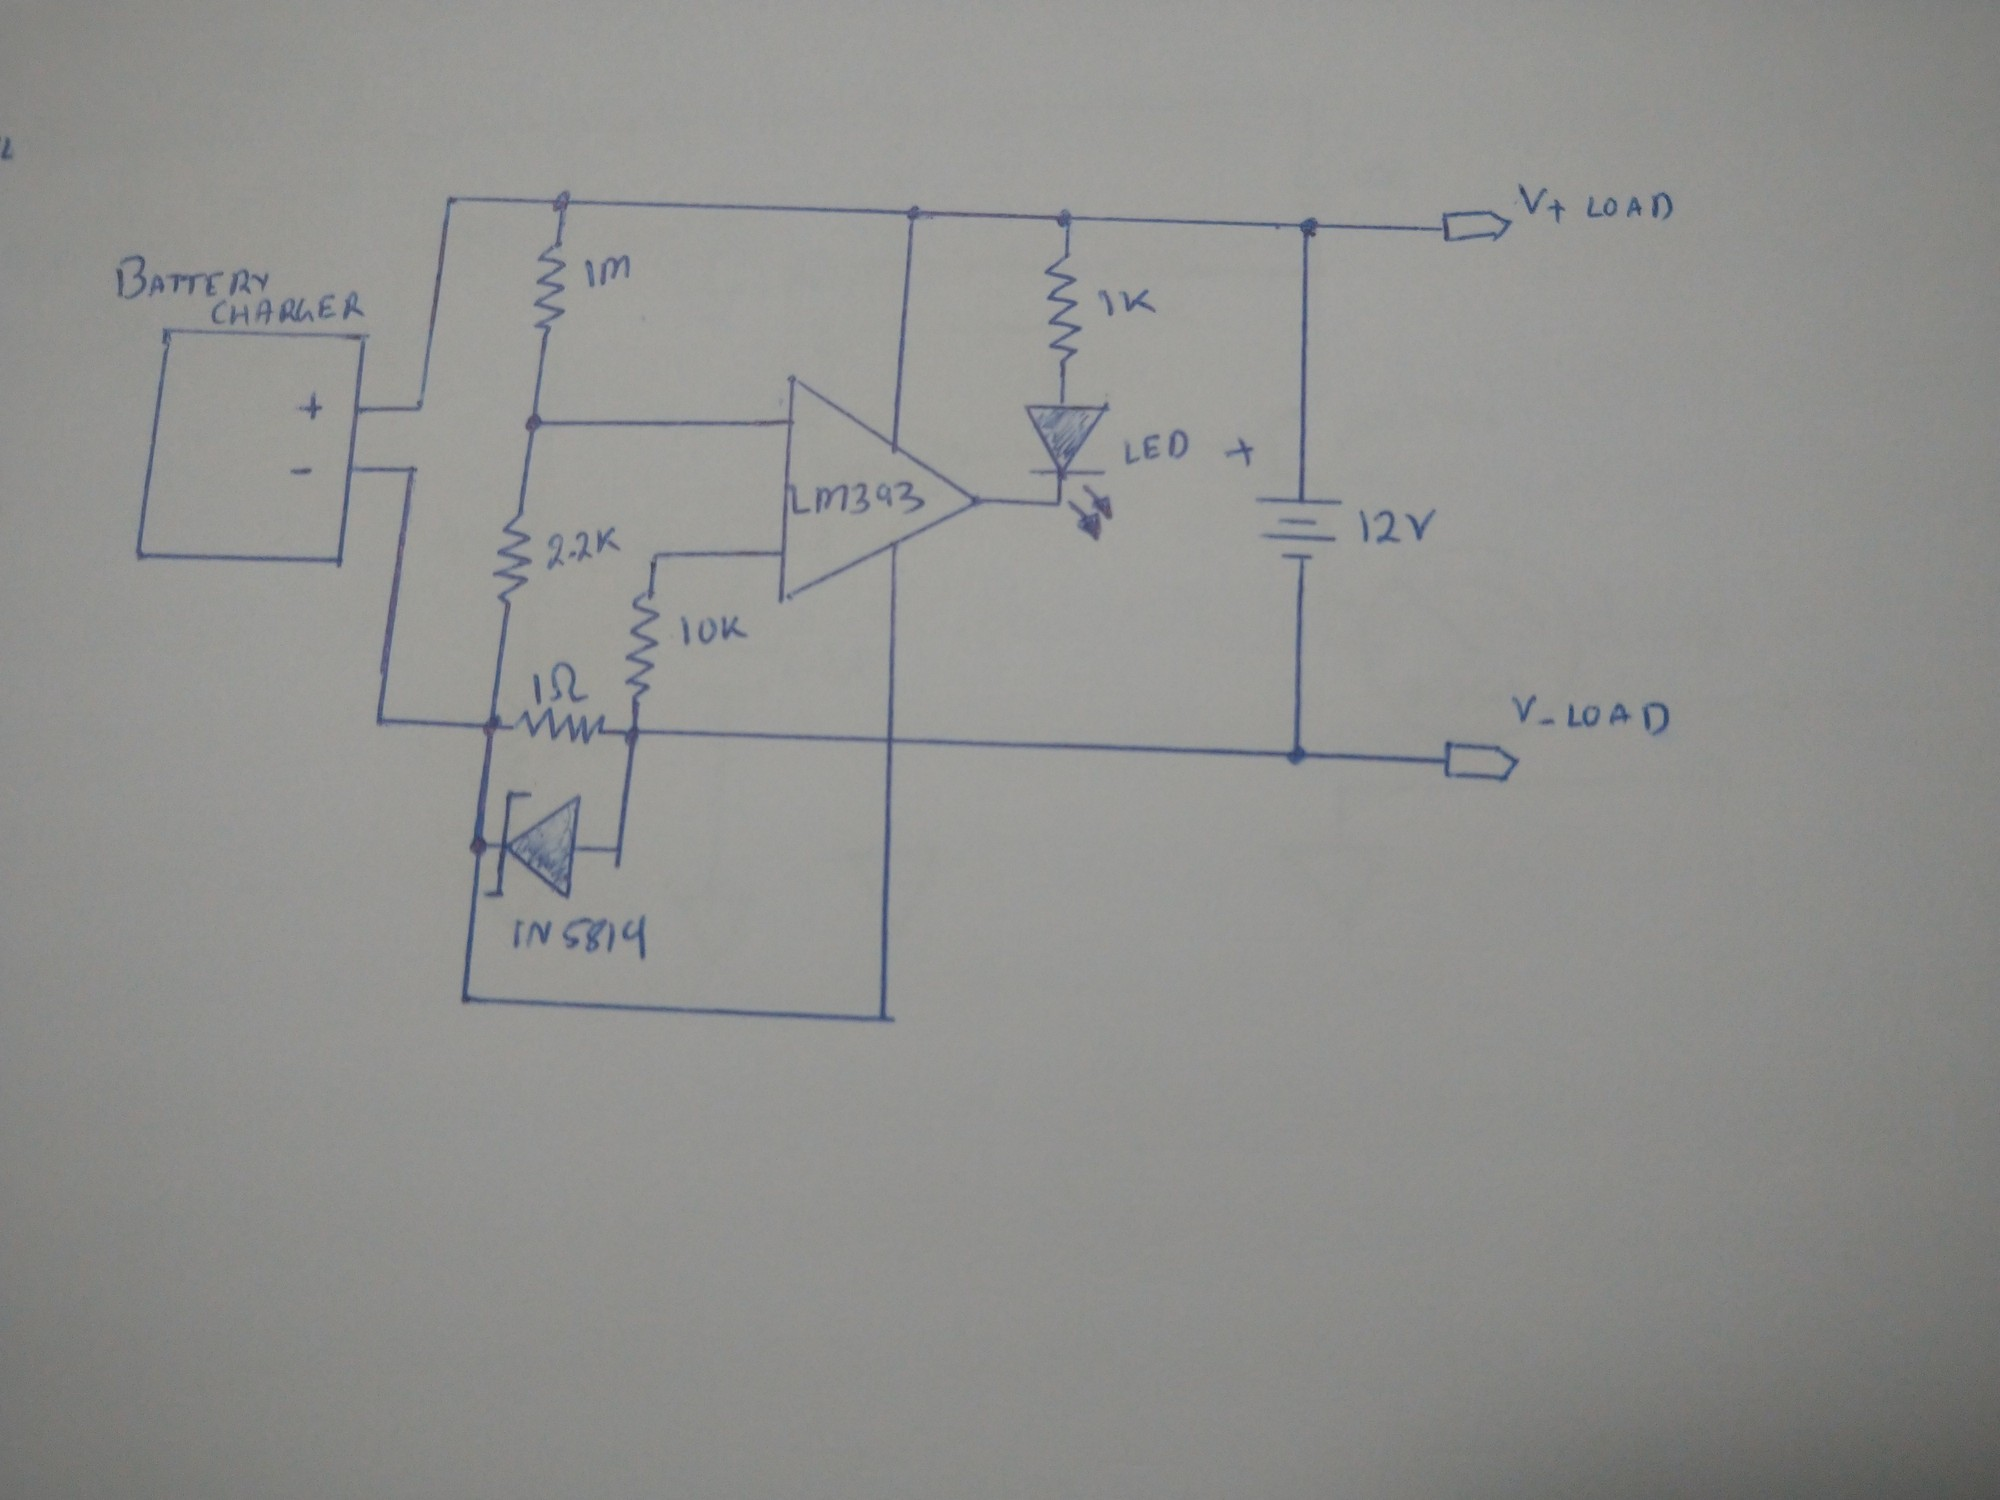crossover: (877, 726, 902, 752)
diode: (480, 789, 584, 901)
diode.light_emitting: (1019, 402, 1118, 540)
junction: (1294, 213, 1326, 243), (479, 711, 509, 742), (521, 410, 550, 443), (1283, 737, 1310, 770), (465, 830, 491, 863), (617, 723, 650, 750), (1054, 203, 1079, 235), (548, 189, 576, 216), (372, 707, 395, 734), (455, 986, 477, 1012), (438, 192, 465, 213), (606, 838, 630, 860), (403, 457, 424, 482), (904, 202, 924, 225), (409, 395, 430, 418), (872, 1008, 896, 1027), (1046, 493, 1065, 514), (646, 547, 666, 564)
operational_amplifier: (772, 370, 986, 610)
resistor: (1039, 249, 1087, 366), (490, 507, 539, 608), (510, 706, 608, 750), (624, 588, 660, 701), (531, 241, 569, 339)
terminal: (1441, 737, 1521, 791), (1438, 206, 1515, 244)
text: (1509, 692, 1674, 744), (1515, 180, 1679, 230), (113, 252, 272, 299), (510, 914, 654, 964), (784, 477, 928, 520), (211, 290, 367, 328), (543, 525, 624, 574), (1354, 504, 1441, 548), (1120, 425, 1194, 466), (529, 659, 591, 707), (679, 613, 753, 648), (583, 251, 635, 290), (1096, 287, 1159, 318)
voltage.dc: (135, 328, 372, 567), (1249, 492, 1348, 572)
